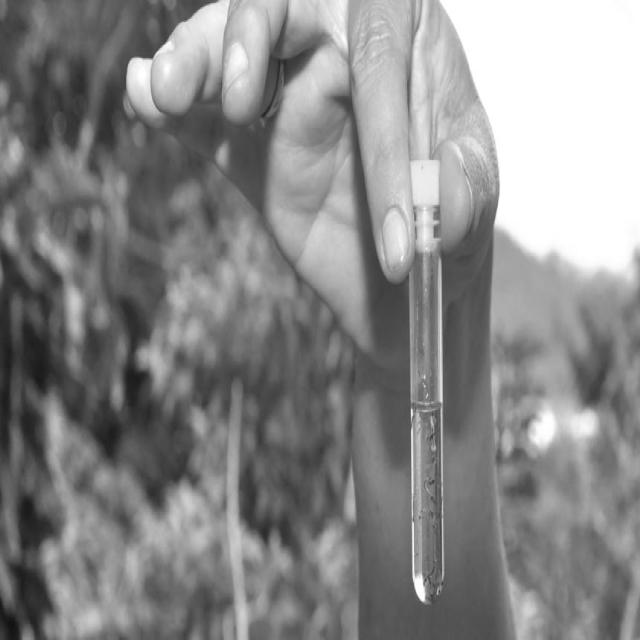larvas: (422, 475, 436, 503), (424, 561, 435, 585), (430, 516, 440, 533), (419, 508, 431, 522), (431, 421, 436, 452), (429, 578, 436, 597), (426, 455, 434, 470), (411, 409, 417, 426), (424, 432, 431, 442)
